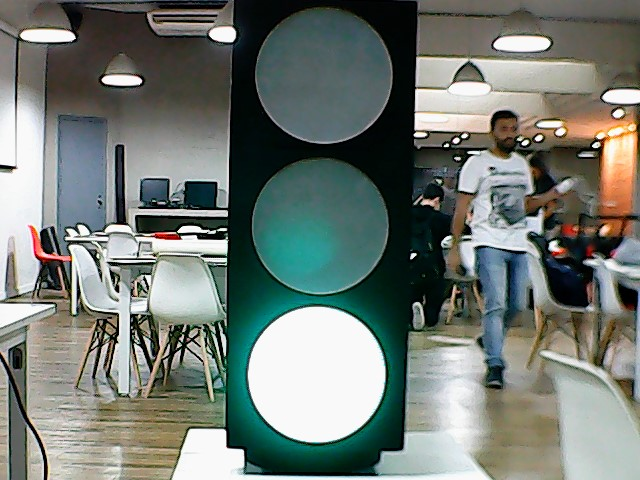verde: (226, 1, 418, 455)
